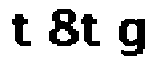8: (44, 5, 80, 50)
g: (115, 15, 148, 59)
t: (81, 11, 104, 51), (11, 12, 32, 50)
